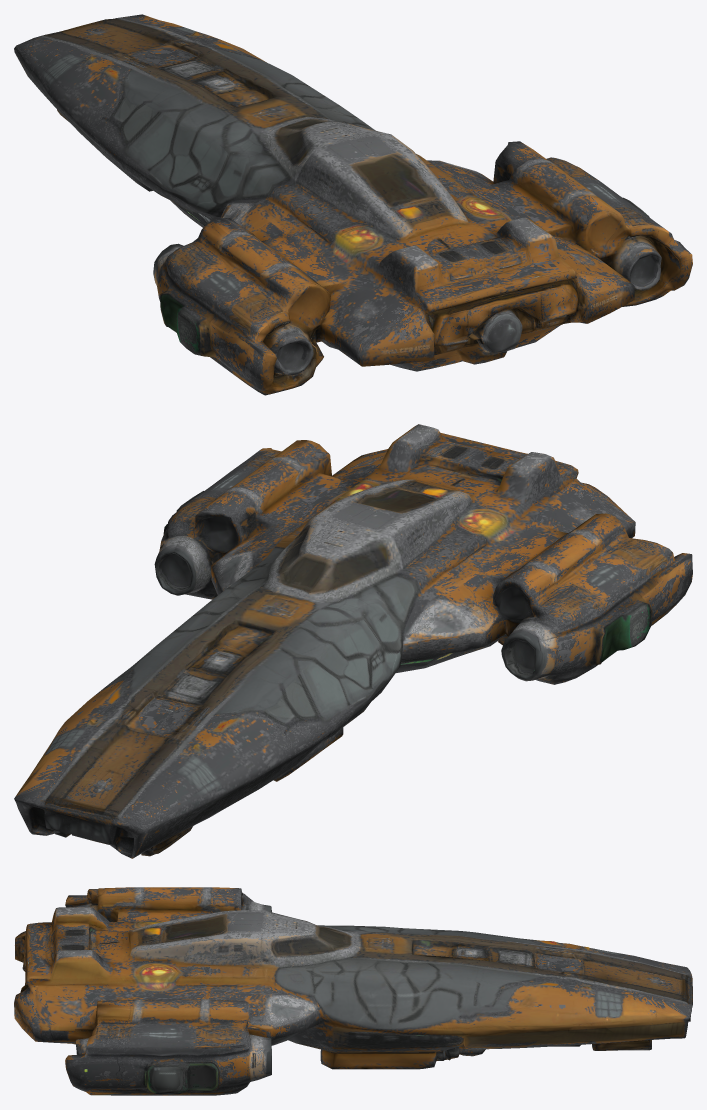
Rendered from blue1.gltf.
3 renders of one model, top to bottom at view 1: azimuth 30°, elevation 25°; view 2: azimuth 150°, elevation 25°; view 3: azimuth 270°, elevation 25°, orthographic. The views are drawn at different scales.
Bounding box in the file's own units: 1.18 × 0.4324 × 1.98.
Materials: 1 (1 with a texture image).
